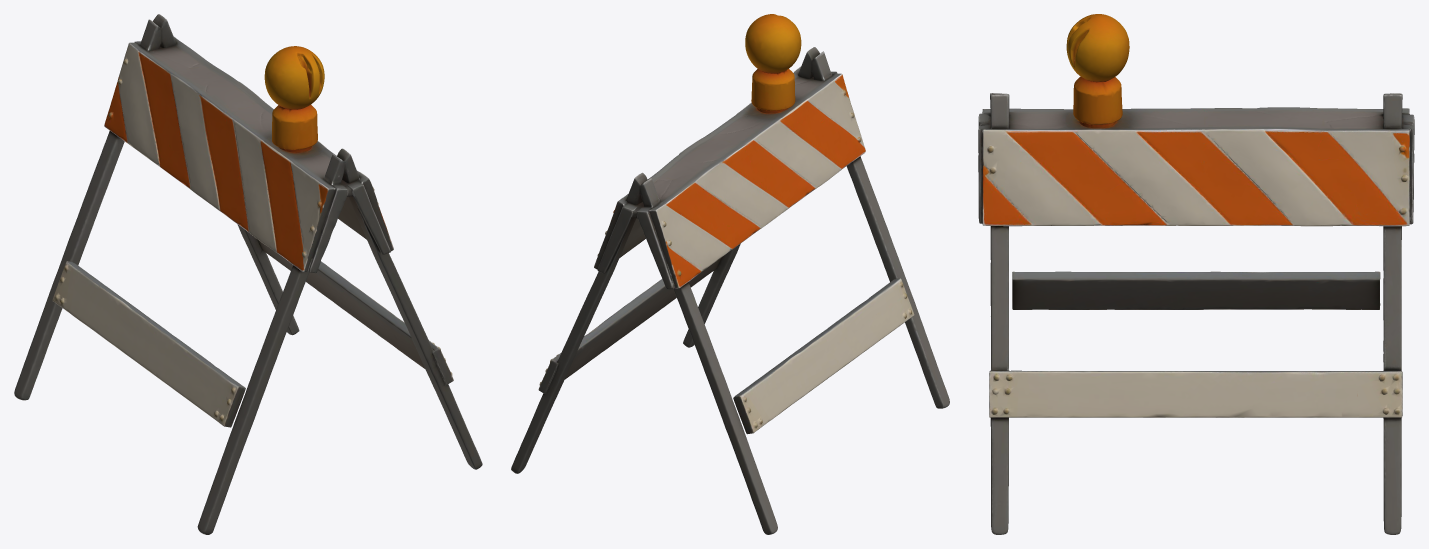
Rendered from Barricade.glb.
3 views of the same model, side by side, from view 1: azimuth 30°, elevation 25°; view 2: azimuth 150°, elevation 25°; view 3: azimuth 270°, elevation 25° (orthographic). The views are drawn at different scales.
Parts seen in each view (by area): view 1: tripo_node_f3780cb2-4825-48c0-a049-01e80d41dda9; view 2: tripo_node_f3780cb2-4825-48c0-a049-01e80d41dda9; view 3: tripo_node_f3780cb2-4825-48c0-a049-01e80d41dda9.
Boxes of the visible parts, bbox=[...] form: tripo_node_f3780cb2-4825-48c0-a049-01e80d41dda9: bbox=[14, 14, 482, 534]; tripo_node_f3780cb2-4825-48c0-a049-01e80d41dda9: bbox=[511, 14, 949, 534]; tripo_node_f3780cb2-4825-48c0-a049-01e80d41dda9: bbox=[978, 14, 1414, 534].
Bounding box in the file's own units: 0.6996 × 1 × 0.8818.
1 material, 1 textured.
